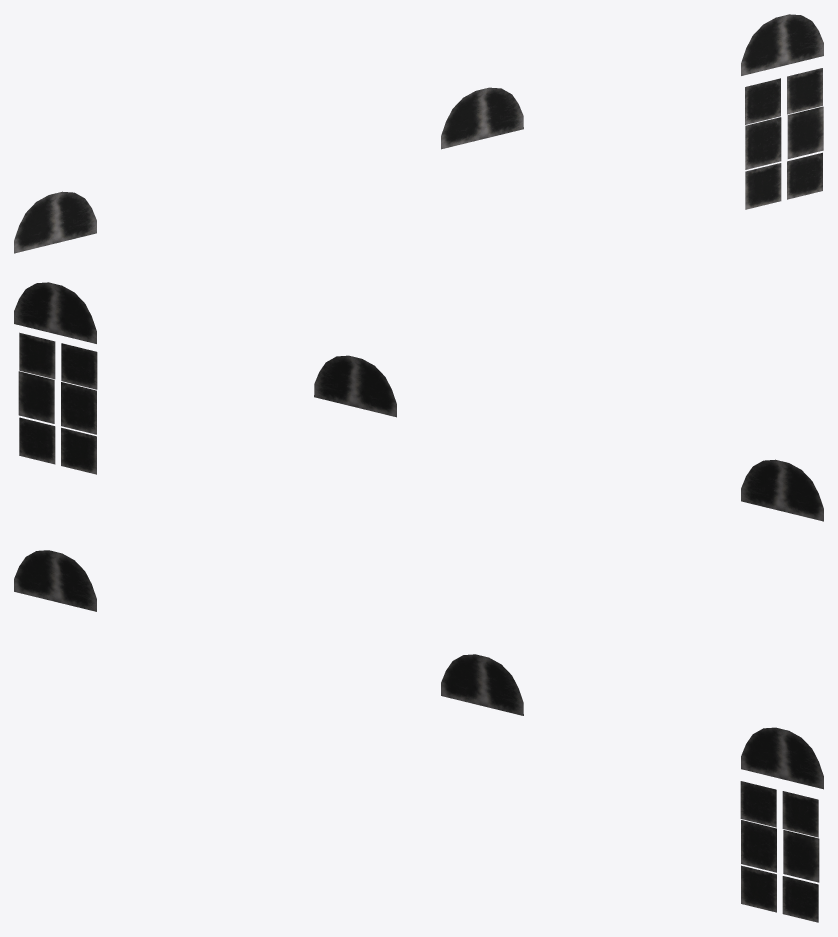
File: sm21_037_st4304windowglass.fbx
The picture shows the model from 3 angles, top to bottom: view 1: azimuth 30°, elevation 25°; view 2: azimuth 150°, elevation 25°; view 3: azimuth 330°, elevation 25°; orthographic projection.
Parts seen in each view (by area): view 1: LOD_1_Group_0_Sub_1__st2_police1fRightWindows01_Glass; view 2: LOD_1_Group_0_Sub_1__st2_police1fRightWindows01_Glass; view 3: LOD_1_Group_0_Sub_1__st2_police1fRightWindows01_Glass.
Boxes of the visible parts, x1,y1,x2,y2 form: LOD_1_Group_0_Sub_1__st2_police1fRightWindows01_Glass: (14, 14, 823, 253); LOD_1_Group_0_Sub_1__st2_police1fRightWindows01_Glass: (14, 282, 823, 521); LOD_1_Group_0_Sub_1__st2_police1fRightWindows01_Glass: (14, 550, 823, 922).
Bounding box in the file's own units: 946 × 204 × 4.55.
